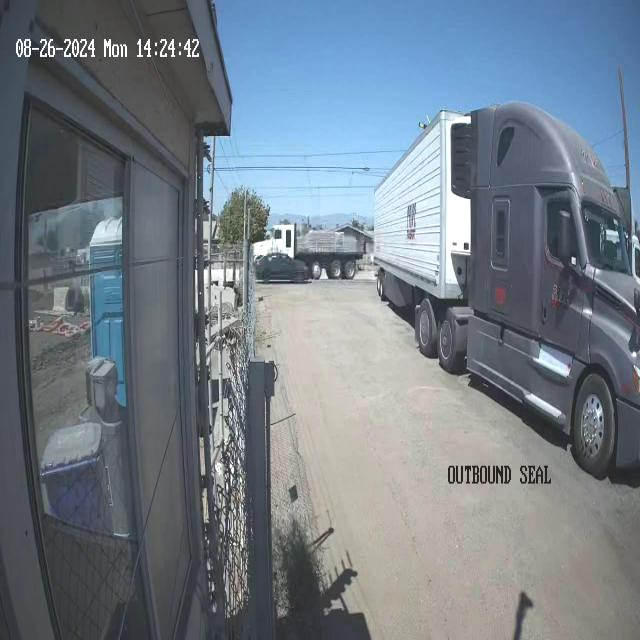CONTAINER: (372, 110, 472, 308)
